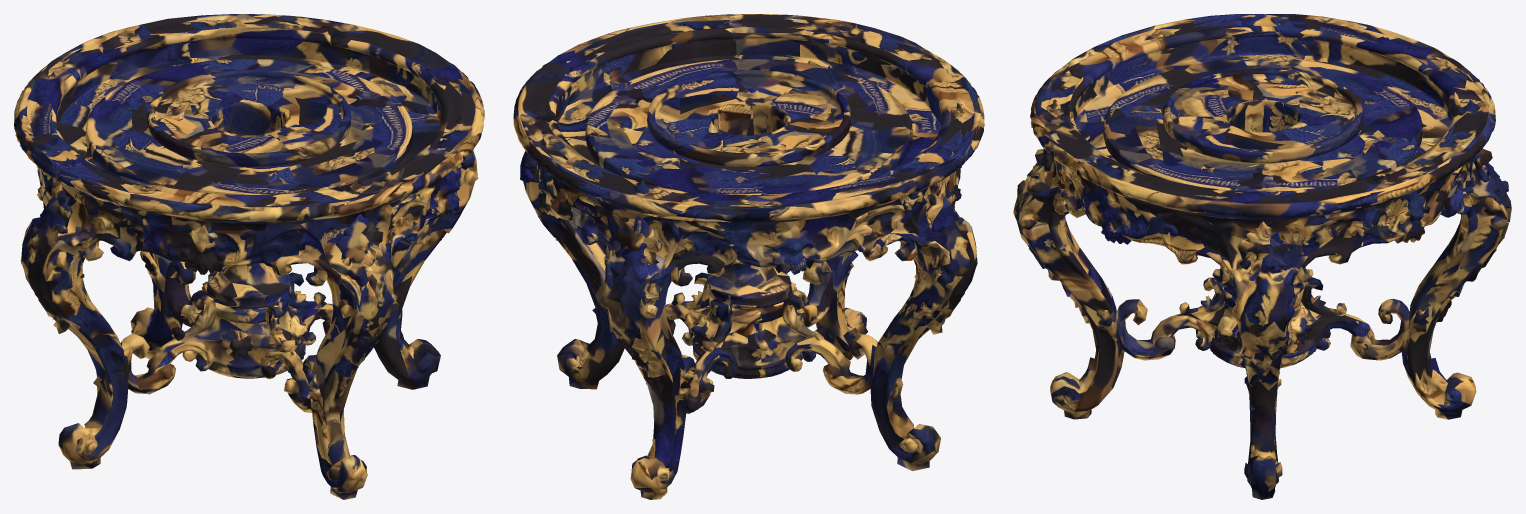
Rendered from EtherVessel_Table.gltf.
3 renders of one model, left to right at view 1: azimuth 30°, elevation 25°; view 2: azimuth 150°, elevation 25°; view 3: azimuth 270°, elevation 25°, orthographic. The views are drawn at different scales.
Visible parts, largest first — view 1: EtherVessel_Table; view 2: EtherVessel_Table; view 3: EtherVessel_Table.
Boxes of the visible parts, <box> form: EtherVessel_Table: <box>14,14,484,499</box>; EtherVessel_Table: <box>513,14,984,499</box>; EtherVessel_Table: <box>1013,14,1511,499</box>.
Bounding box in the file's own units: 1.67 × 1.16 × 1.66.
1 material, 1 textured.
